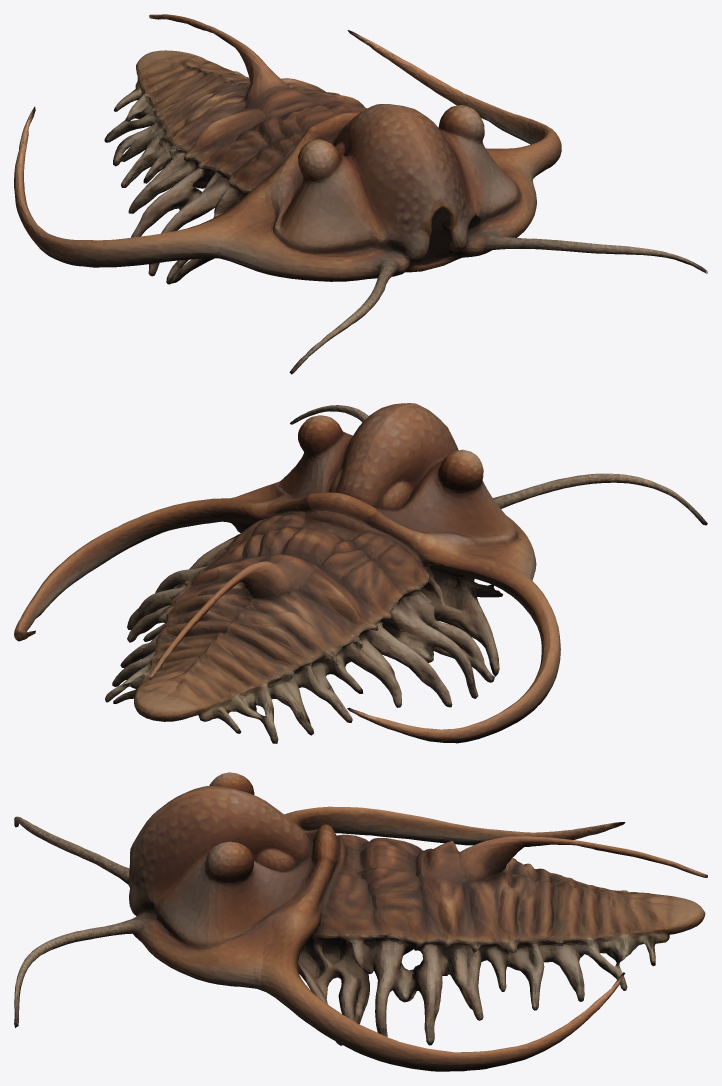
3 renders of one model, top to bottom at view 1: azimuth 30°, elevation 25°; view 2: azimuth 150°, elevation 25°; view 3: azimuth 270°, elevation 25°, orthographic.
Visible parts, largest first — view 1: world; view 2: world; view 3: world.
Part boxes in pixels (left/top/right/bottom): world: left=14, top=14, right=707, bottom=374; world: left=14, top=403, right=707, bottom=743; world: left=14, top=772, right=707, bottom=1071.
Size of the model in its own units: 0.0283 by 0.0104 by 0.035.
1 material, 1 textured.
